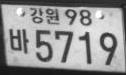1: (77, 31, 96, 65)
5: (33, 28, 53, 63)
7: (55, 28, 75, 64)
8: (79, 8, 93, 26)
9: (99, 31, 117, 66), (64, 8, 77, 25)
강원_H: (29, 5, 60, 25)
바: (8, 27, 29, 54)
